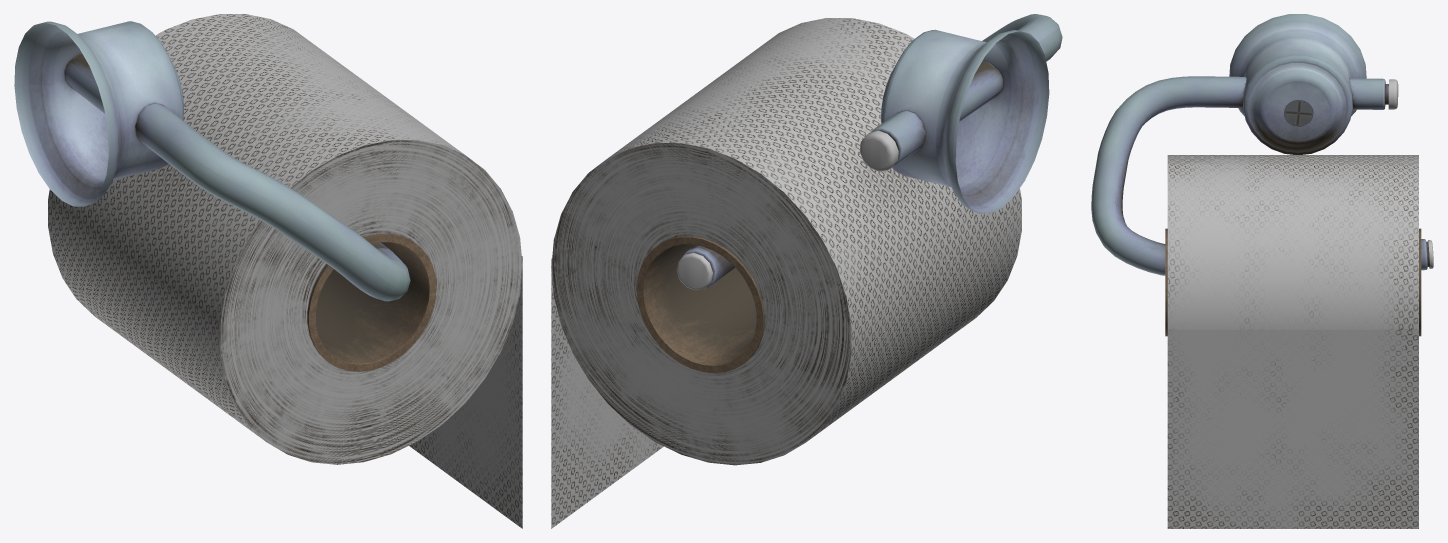
The model's file is toilet_paper_holder_-_12mb.glb.
3 views of the same model, side by side, from view 1: azimuth 30°, elevation 25°; view 2: azimuth 150°, elevation 25°; view 3: azimuth 270°, elevation 25° (orthographic). The views are drawn at different scales.
Visible parts, largest first — view 1: Cylinder, Disc, Sweep, Cylinder_1; view 2: Cylinder, Disc, Cylinder_1, Sweep; view 3: Cylinder_1, Cylinder, Disc, Sweep.
Part boxes in pixels (box(x1,y1,x2,y2)): Cylinder: box(48, 14, 522, 464); Disc: box(14, 21, 183, 206); Sweep: box(64, 53, 410, 301); Cylinder_1: box(409, 256, 522, 528); Cylinder: box(551, 18, 1021, 465); Disc: box(881, 29, 1049, 213); Cylinder_1: box(551, 258, 663, 528); Sweep: box(676, 14, 1062, 290); Cylinder_1: box(1167, 330, 1418, 528); Cylinder: box(1165, 155, 1421, 336); Disc: box(1229, 14, 1366, 154); Sweep: box(1091, 76, 1433, 275).
Size of the model in its own units: 241 by 324 by 263.
1 material, 1 textured.
